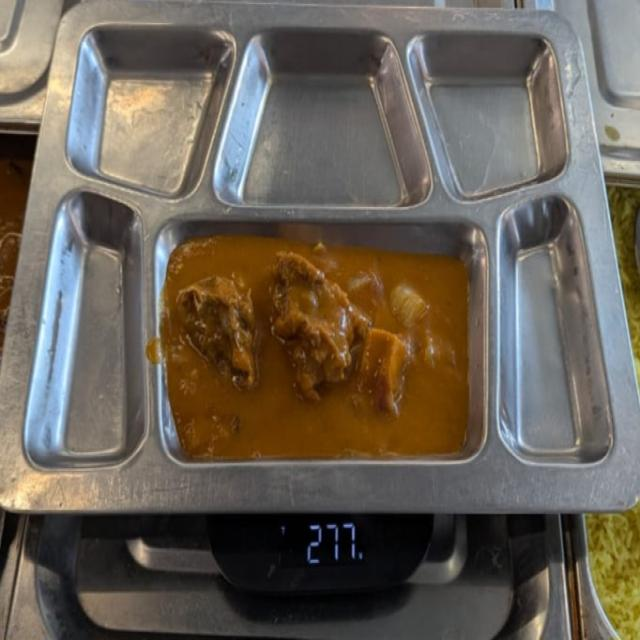Chicken Curry: (178, 249, 470, 461)
